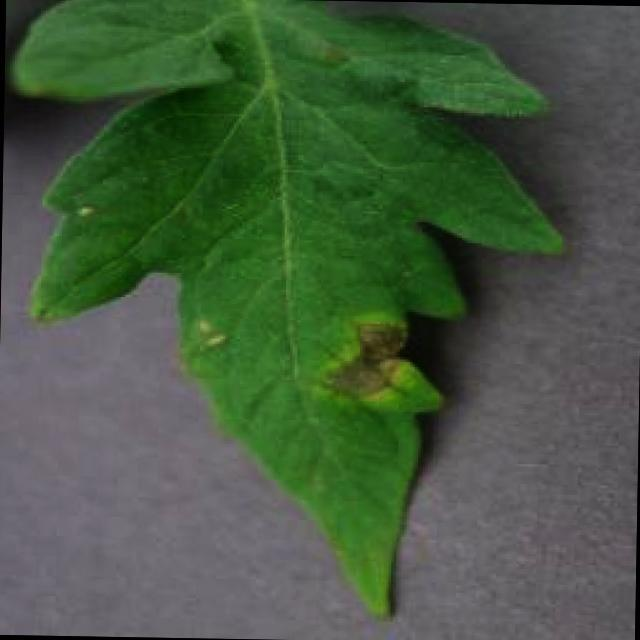Tomato late blight leaf: (2, 0, 573, 627)
